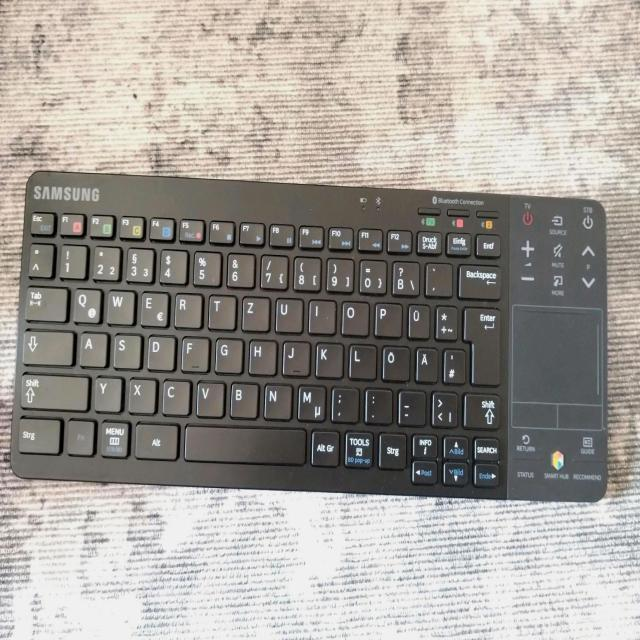0: (356, 256, 386, 293)
1: (57, 241, 85, 277)
2: (89, 243, 119, 279)
3: (123, 244, 153, 281)
4: (158, 246, 186, 282)
5: (190, 247, 220, 284)
6: (224, 250, 254, 286)
7: (258, 252, 288, 288)
8: (291, 253, 320, 289)
9: (323, 255, 353, 291)
a: (78, 328, 106, 365)
accent: (422, 259, 451, 295)
ae: (413, 344, 437, 381)
alt-left: (133, 420, 179, 458)
altgr-right: (309, 427, 339, 465)
b: (227, 378, 257, 416)
c: (160, 376, 190, 413)
caret: (26, 240, 52, 276)
comma: (328, 383, 358, 421)
d: (145, 332, 173, 370)
del: (456, 261, 500, 297)
e: (138, 288, 168, 325)
enter: (462, 302, 500, 384)
f: (179, 333, 208, 371)
g: (213, 335, 241, 372)
h: (246, 336, 276, 374)
hash: (441, 345, 465, 383)
i: (306, 296, 334, 332)
j: (280, 337, 308, 375)
k: (313, 338, 342, 376)
keyboard: (5, 169, 623, 504)
l: (346, 340, 375, 378)
less: (429, 388, 457, 426)
m: (294, 382, 324, 420)
minus: (395, 387, 425, 424)
n: (261, 380, 291, 418)
o: (338, 298, 368, 335)
oe: (379, 342, 409, 380)
p: (371, 299, 401, 335)
plus: (432, 301, 456, 339)
point: (362, 385, 392, 422)
q: (70, 285, 100, 322)
r: (172, 290, 201, 327)
s: (112, 331, 140, 368)
shift-left: (18, 371, 88, 409)
shift-lock: (20, 327, 72, 364)
shift-right: (464, 390, 502, 428)
space: (183, 422, 305, 464)
ss: (389, 258, 418, 294)
strg-left: (14, 414, 60, 453)
strg-right: (376, 430, 406, 468)
t: (206, 291, 234, 328)
tab: (22, 283, 66, 320)
u: (273, 294, 302, 332)
ue: (405, 300, 429, 338)
v: (194, 378, 223, 416)
w: (105, 286, 134, 324)
x: (126, 375, 155, 413)
y: (92, 374, 120, 410)
z: (240, 292, 269, 330)
